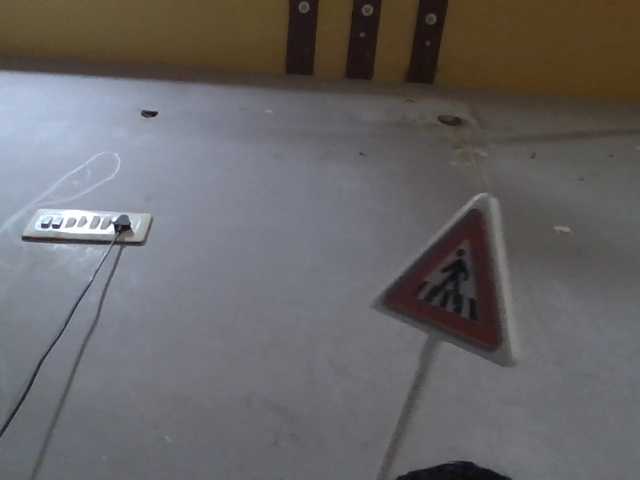crossing: (370, 189, 518, 353)
